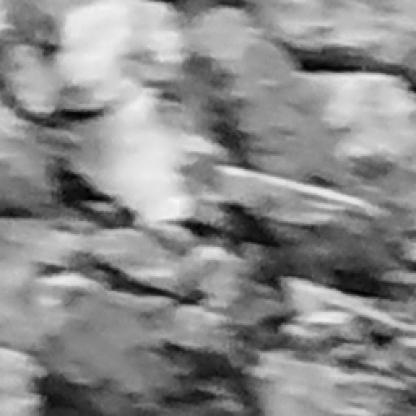cementitious_debris: (0, 3, 412, 414)
